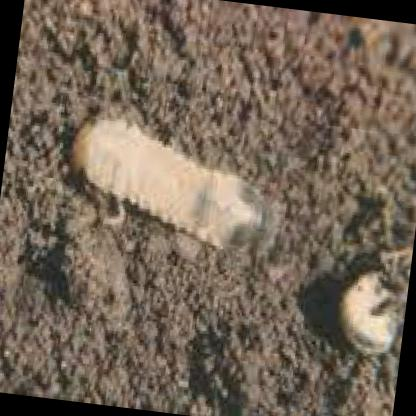root grubs: (75, 115, 263, 250)
